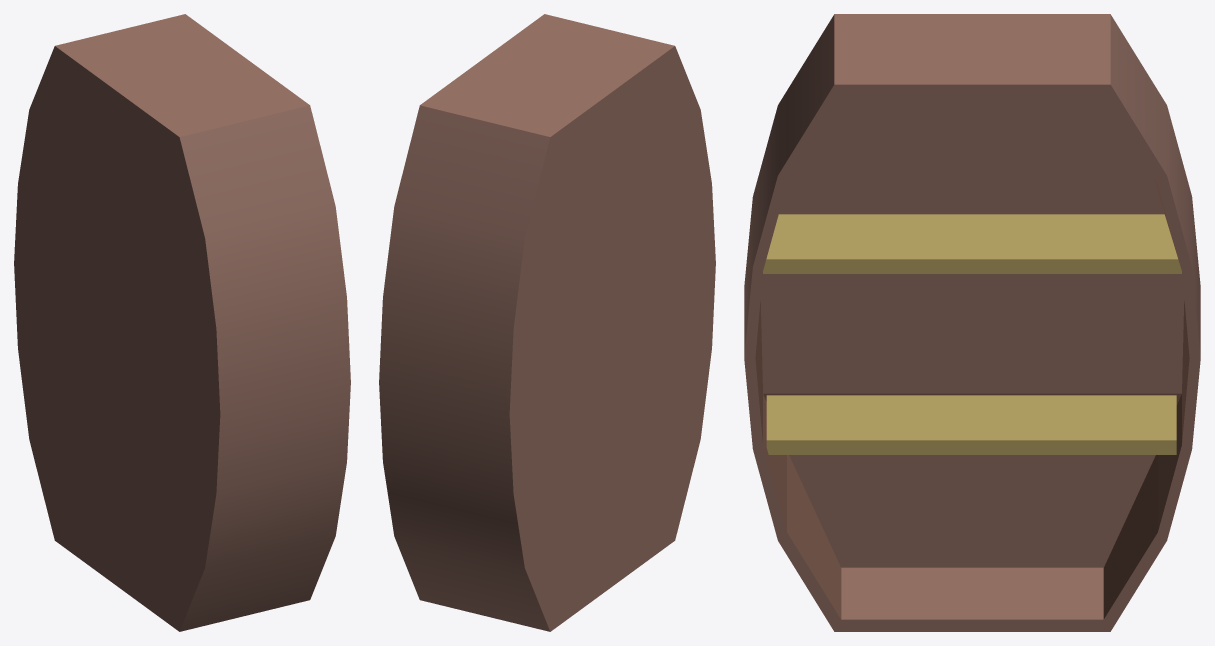
Rendered from rafli_dolap.fbx.
The picture shows the model from 3 angles, left to right: view 1: azimuth 30°, elevation 25°; view 2: azimuth 150°, elevation 25°; view 3: azimuth 270°, elevation 25°; orthographic projection. The views are drawn at different scales.
Parts seen in each view (by area): view 1: polySurface1; view 2: polySurface1; view 3: polySurface1.
Part boxes in pixels (left/top/right/bottom): polySurface1: left=14, top=14, right=350, bottom=631; polySurface1: left=379, top=14, right=715, bottom=631; polySurface1: left=744, top=14, right=1200, bottom=631.
Bounding box in the file's own units: 2.94 × 10.64 × 8.04.
